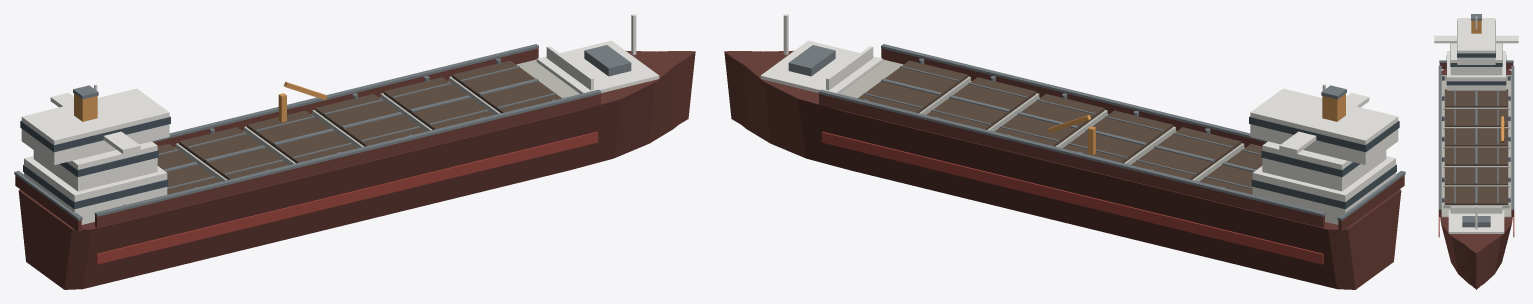
The model's file is bulk-carrier.glb.
The picture shows the model from 3 angles, left to right: view 1: azimuth 30°, elevation 25°; view 2: azimuth 150°, elevation 25°; view 3: azimuth 270°, elevation 25°; orthographic projection. The views are drawn at different scales.
Parts seen in each view (by area): view 1: BulkCarrier; view 2: BulkCarrier; view 3: BulkCarrier.
Boxes of the visible parts, box(x1,y1,x2,y2) form: BulkCarrier: box(14, 14, 695, 289); BulkCarrier: box(724, 14, 1405, 289); BulkCarrier: box(1434, 14, 1518, 289).
Bounding box in the file's own units: 20.24 × 5.25 × 3.85.
